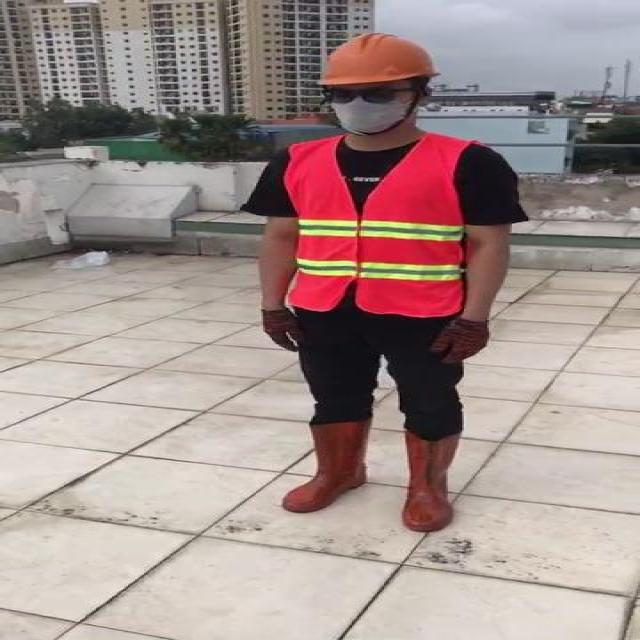boots: (284, 421, 366, 514), (402, 431, 460, 532)
face_mask: (322, 82, 412, 134)
glasses: (315, 84, 405, 105)
hand_glove: (430, 321, 489, 364), (260, 310, 304, 352)
head_helmet: (311, 33, 443, 86)
person: (233, 28, 544, 538)
vest: (286, 136, 466, 315)
